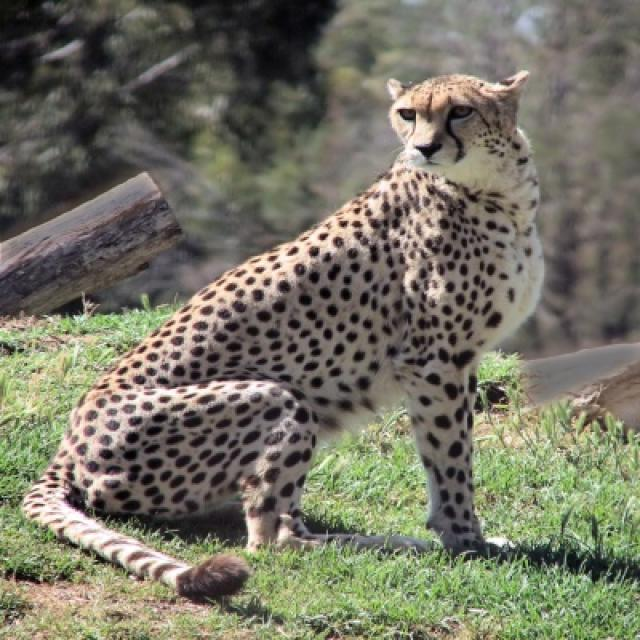Cheetah: (17, 70, 544, 604)
